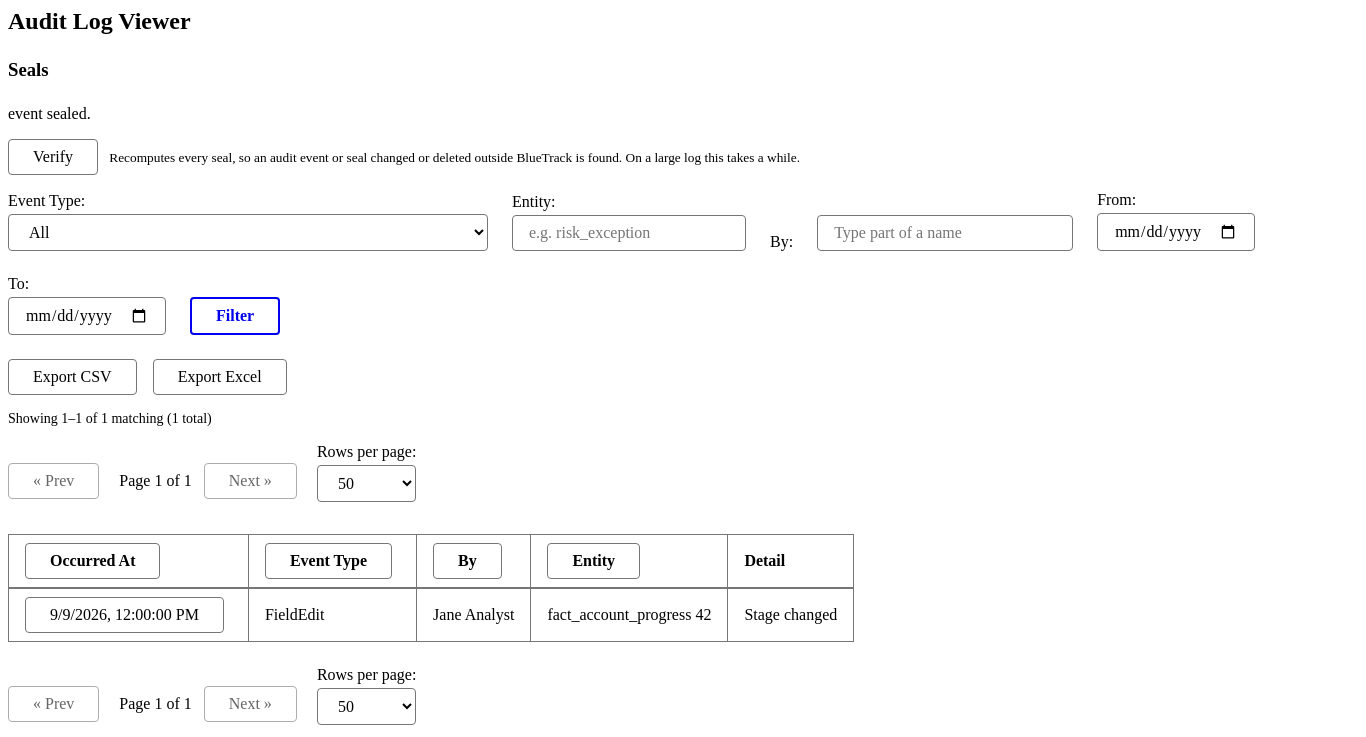
Test: AuditLogViewer.vue › field-level changes › says there were none only when the API said so
Click the button "9/9/2026, 12:00:00 PM": (124, 615) [25,597,224,633]
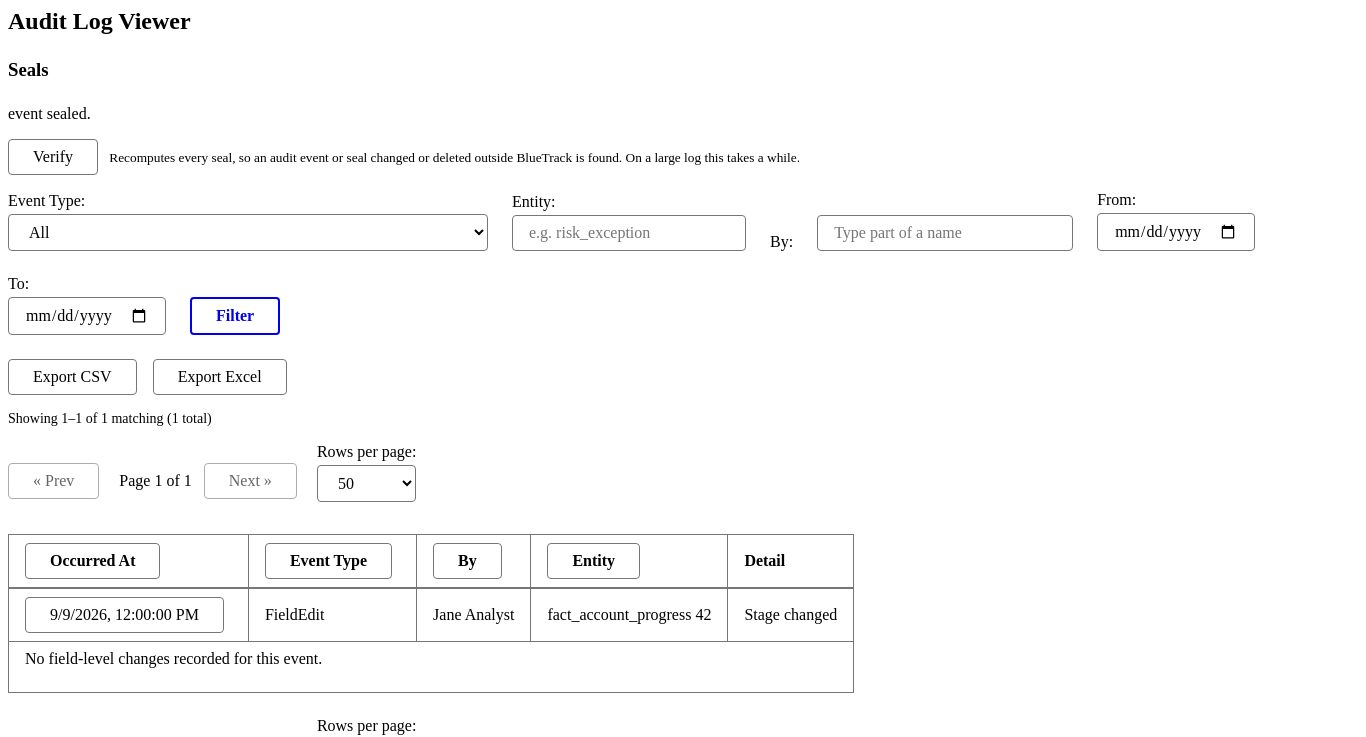
Check: the row with id "audit-detail-1" reads "No field-level changes recorded for this event.", box [25,650,322,667]
